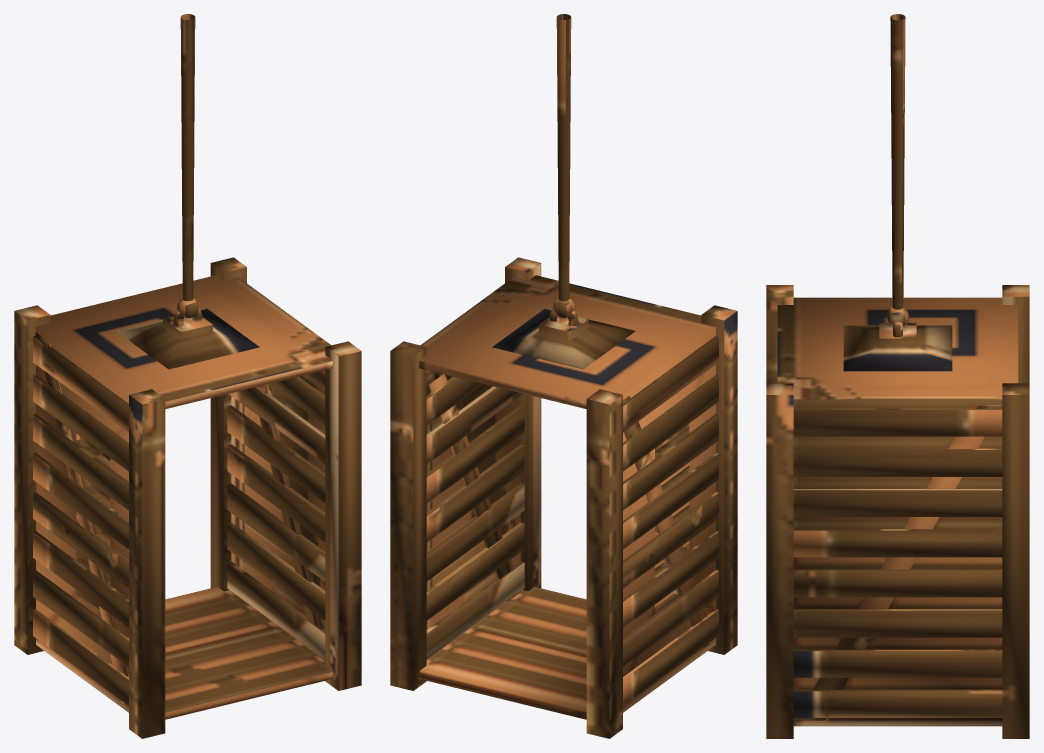
The model's file is elevator_LOD0.fbx.
3 renders of one model, left to right at view 1: azimuth 30°, elevation 25°; view 2: azimuth 150°, elevation 25°; view 3: azimuth 270°, elevation 25°, orthographic. The views are drawn at different scales.
Visible parts, largest first — view 1: elevator_LOD0; view 2: elevator_LOD0; view 3: elevator_LOD0.
Boxes of the visible parts, left/top/right/bottom form: elevator_LOD0: left=14, top=14, right=361, bottom=738; elevator_LOD0: left=390, top=14, right=737, bottom=738; elevator_LOD0: left=766, top=14, right=1029, bottom=738.
Bounding box in the file's own units: 216 × 611 × 219.
